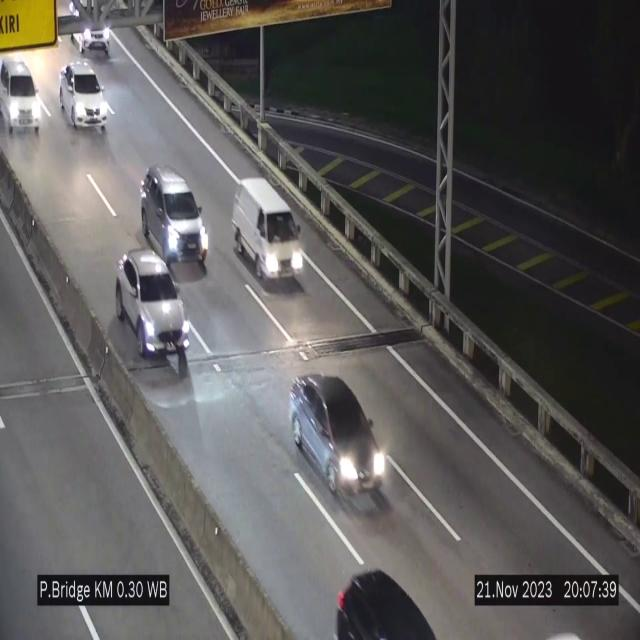Car: (288, 373, 384, 505), (324, 561, 440, 640), (232, 178, 306, 284), (116, 250, 187, 357), (140, 165, 208, 270), (0, 59, 43, 140), (60, 60, 107, 130), (70, 0, 114, 66)
